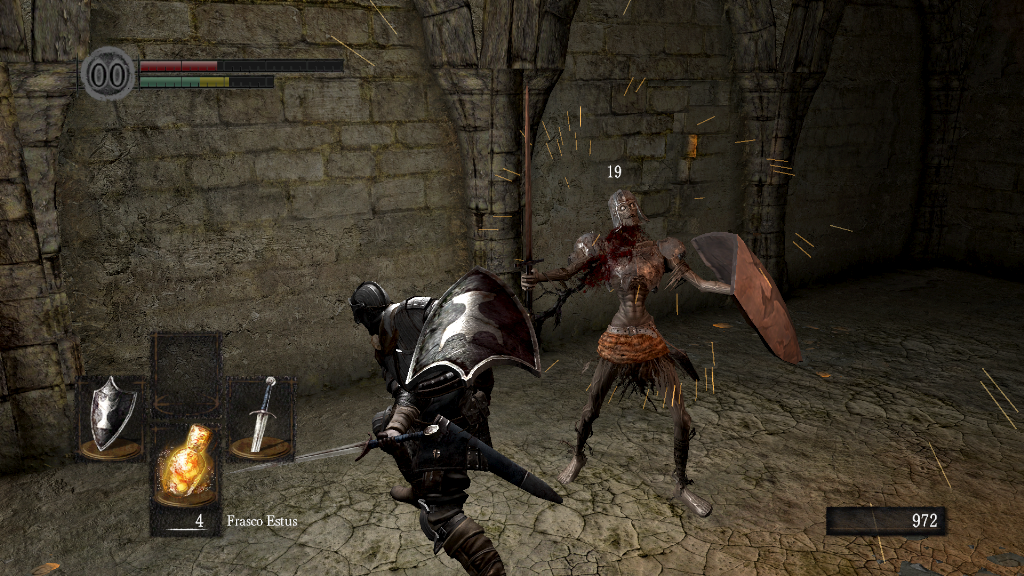health: (138, 58, 343, 71)
humanity: (80, 45, 136, 102)
player: (231, 267, 564, 576)
souls: (825, 506, 945, 536)
stamina: (138, 74, 274, 88)
undeadSoldier: (526, 190, 735, 518)
